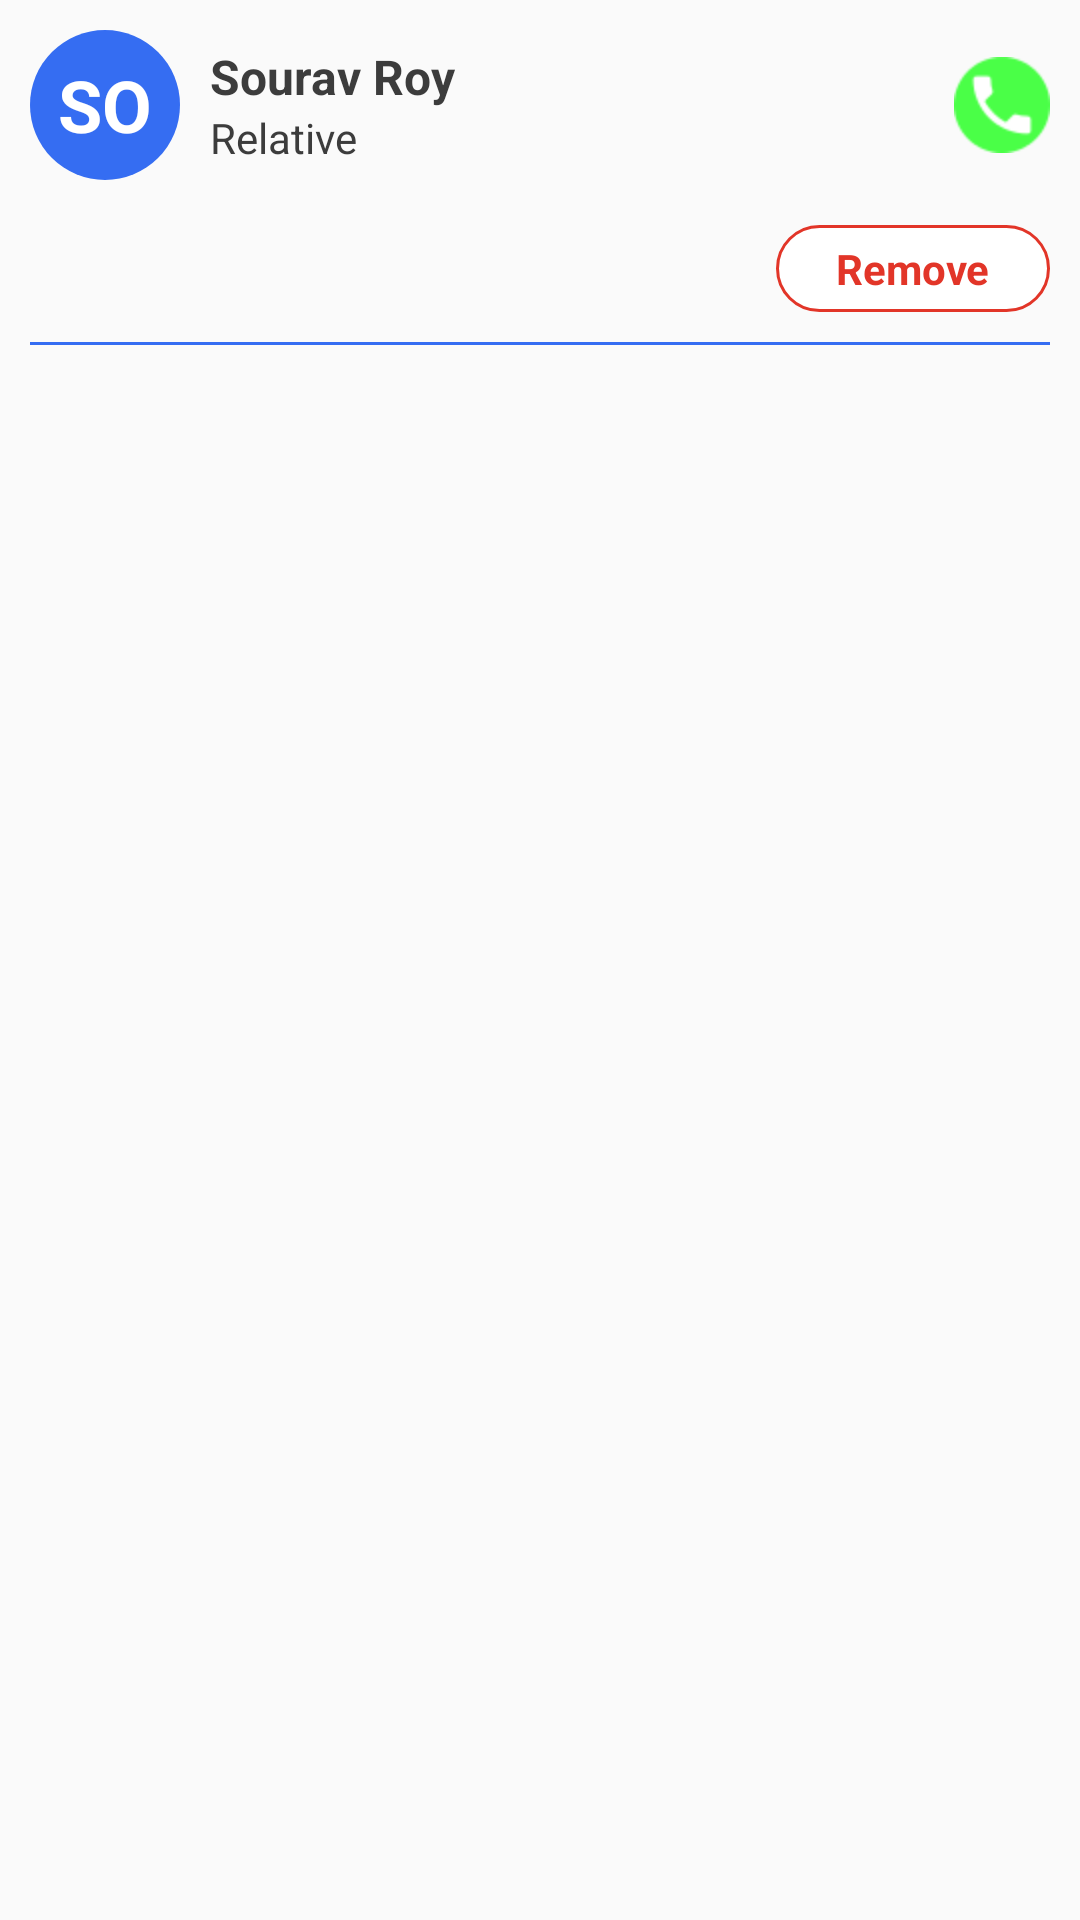

Icon bounding boxes for this 1080px x 1920px phone screenshot, format (x1, y1, x2, y2):
phone: (954, 57, 1050, 153)
